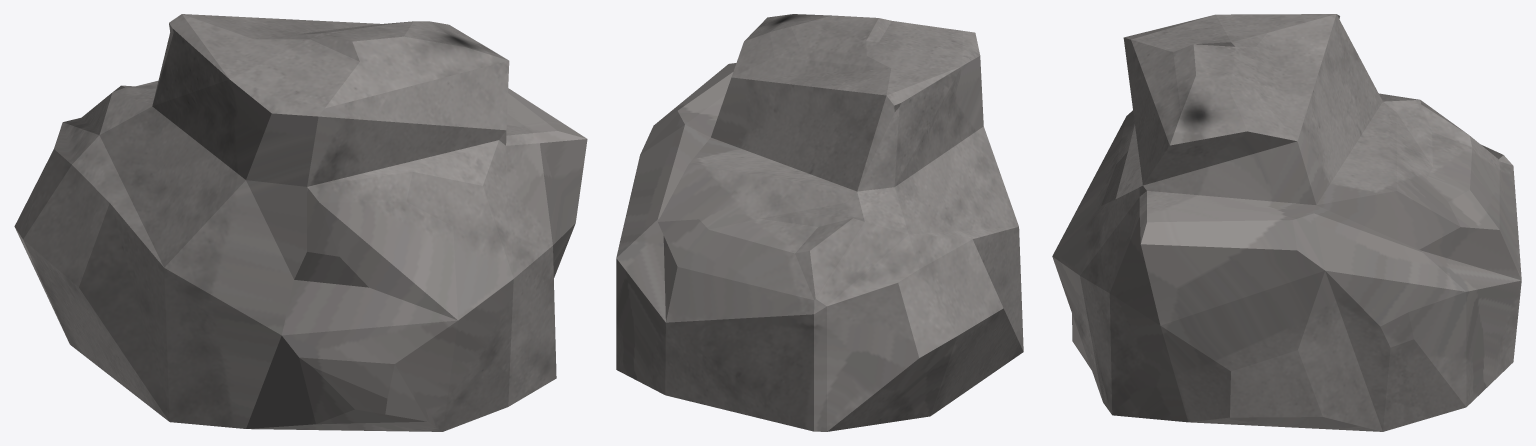
File: grande pierre.fbx
3 renders of one model, left to right at view 1: azimuth 30°, elevation 25°; view 2: azimuth 150°, elevation 25°; view 3: azimuth 270°, elevation 25°, orthographic. The views are drawn at different scales.
Parts seen in each view (by area): view 1: grande pierre; view 2: grande pierre; view 3: grande pierre.
Boxes of the visible parts, left/top/right/bottom form: grande pierre: left=14, top=14, right=587, bottom=431; grande pierre: left=616, top=14, right=1023, bottom=431; grande pierre: left=1052, top=14, right=1521, bottom=431.
Size of the model in its own units: 314 by 259 by 346.
